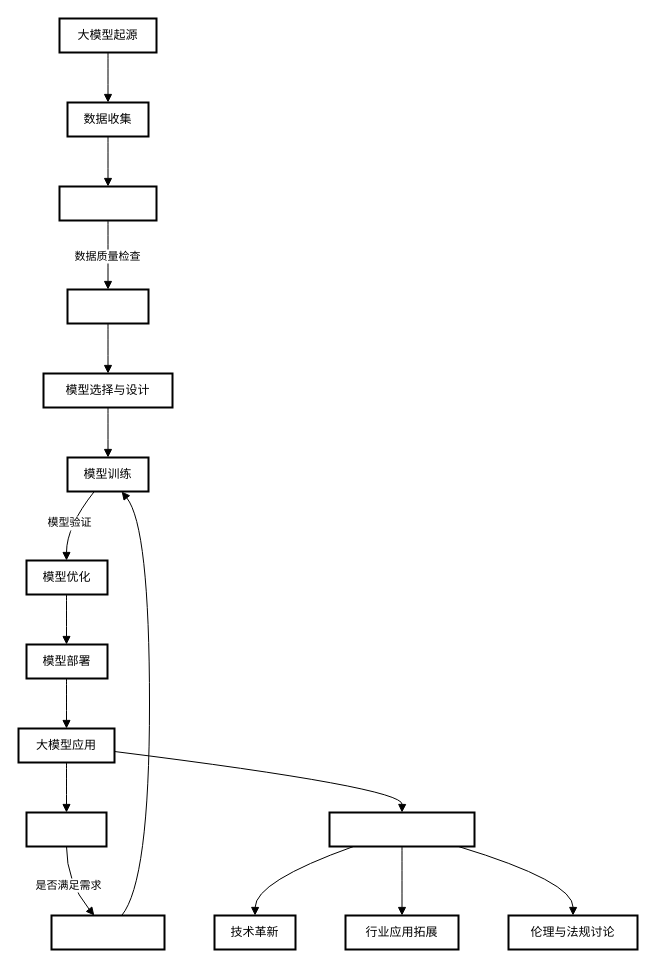
Some shapes in this 655 by 967 pixel diagram are drawn without their labels. Each missing label, with the centre of its shape:
大模型的未来发展: (x=401, y=829)
数据清洗: (x=107, y=306)
数据预处理: (x=107, y=203)
模型评估: (x=66, y=829)
返回模型优化: (x=107, y=932)
